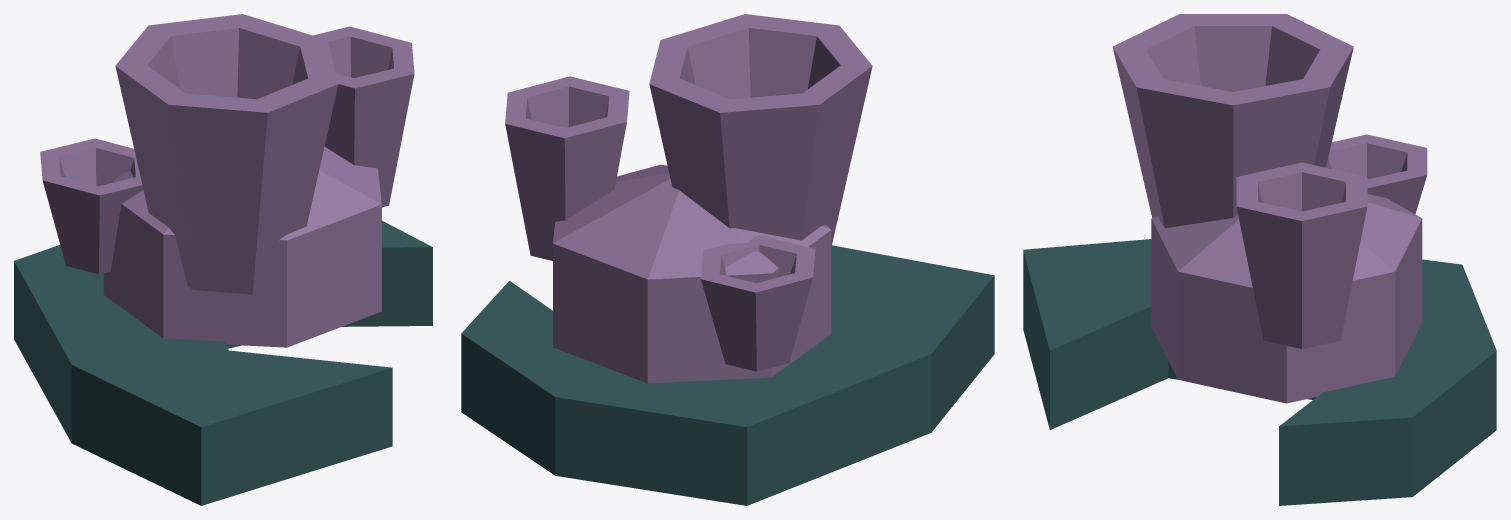
File: mire.glb
3 renders of one model, left to right at view 1: azimuth 30°, elevation 25°; view 2: azimuth 150°, elevation 25°; view 3: azimuth 270°, elevation 25°, orthographic.
Parts seen in each view (by area): view 1: body; view 2: body; view 3: body.
Part boxes in pixels (left/top/right/bottom): body: left=14, top=14, right=432, bottom=505; body: left=461, top=14, right=994, bottom=505; body: left=1023, top=14, right=1496, bottom=505.
Size of the model in its own units: 1.35 by 1.1 by 1.4.
